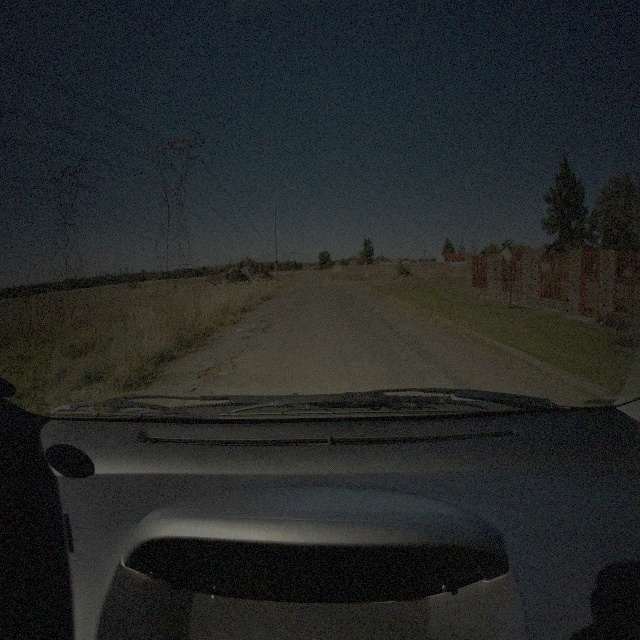pothole: (198, 364, 222, 378), (240, 331, 254, 342), (263, 322, 273, 334)
